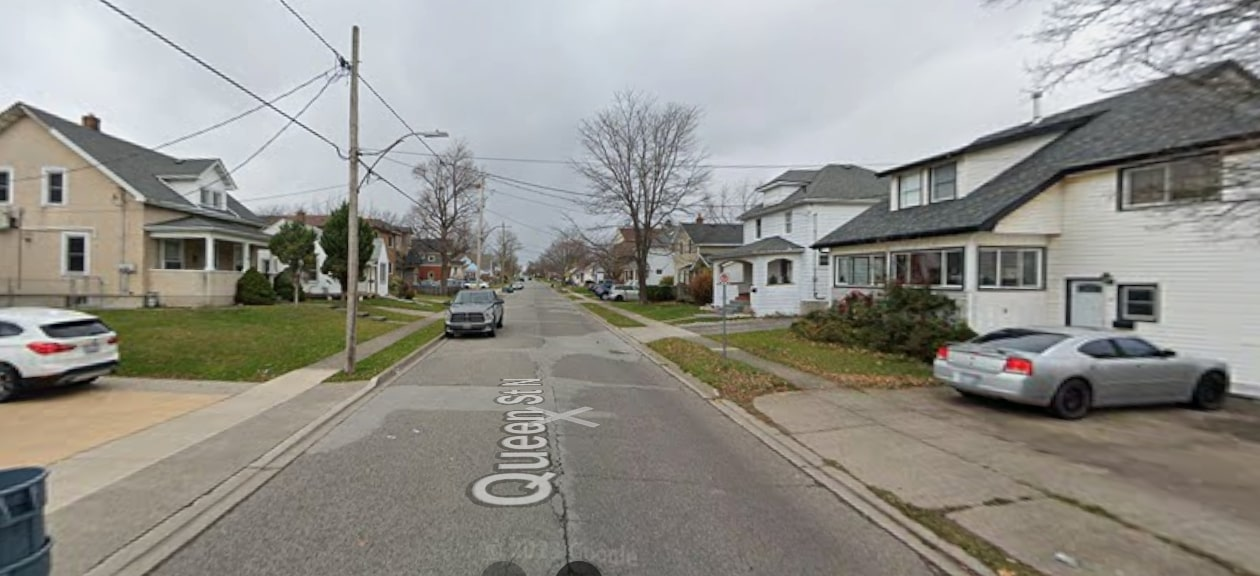cracks: (538, 455, 588, 573)
